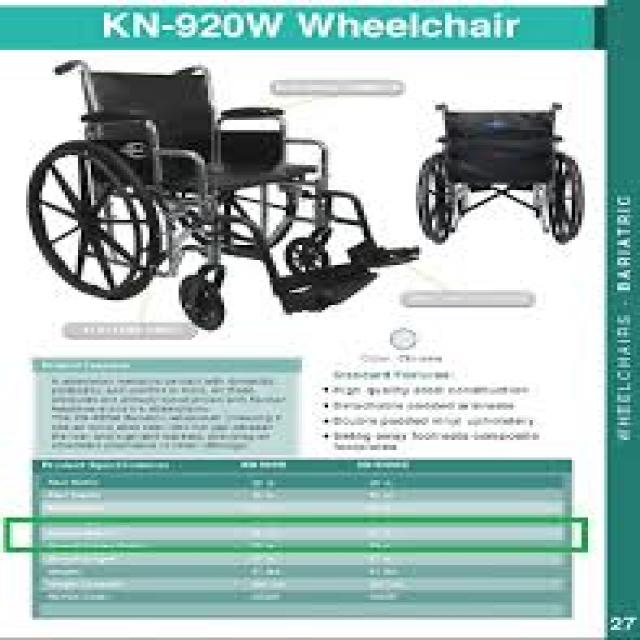wheelchairs: (23, 60, 432, 335)
